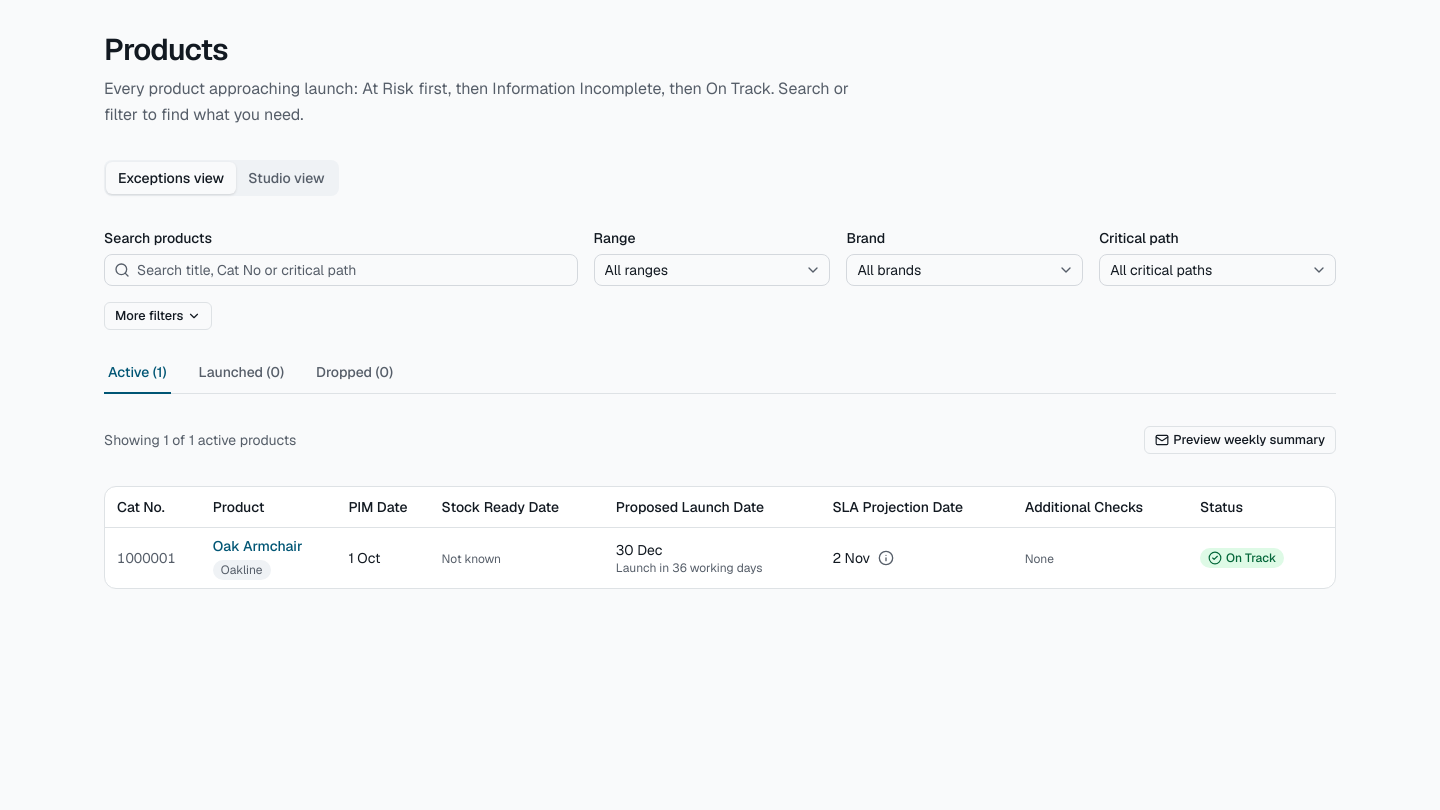
Test case: ProductsView › offers every filter, labelled
expect the dropdown labelled "range" is shown: met, box [594,254,830,286]
expect the dropdown labelled "brand" is shown: met, box [846,254,1083,286]
Click the button "More filters" at (158, 316), box [104,302,212,330]
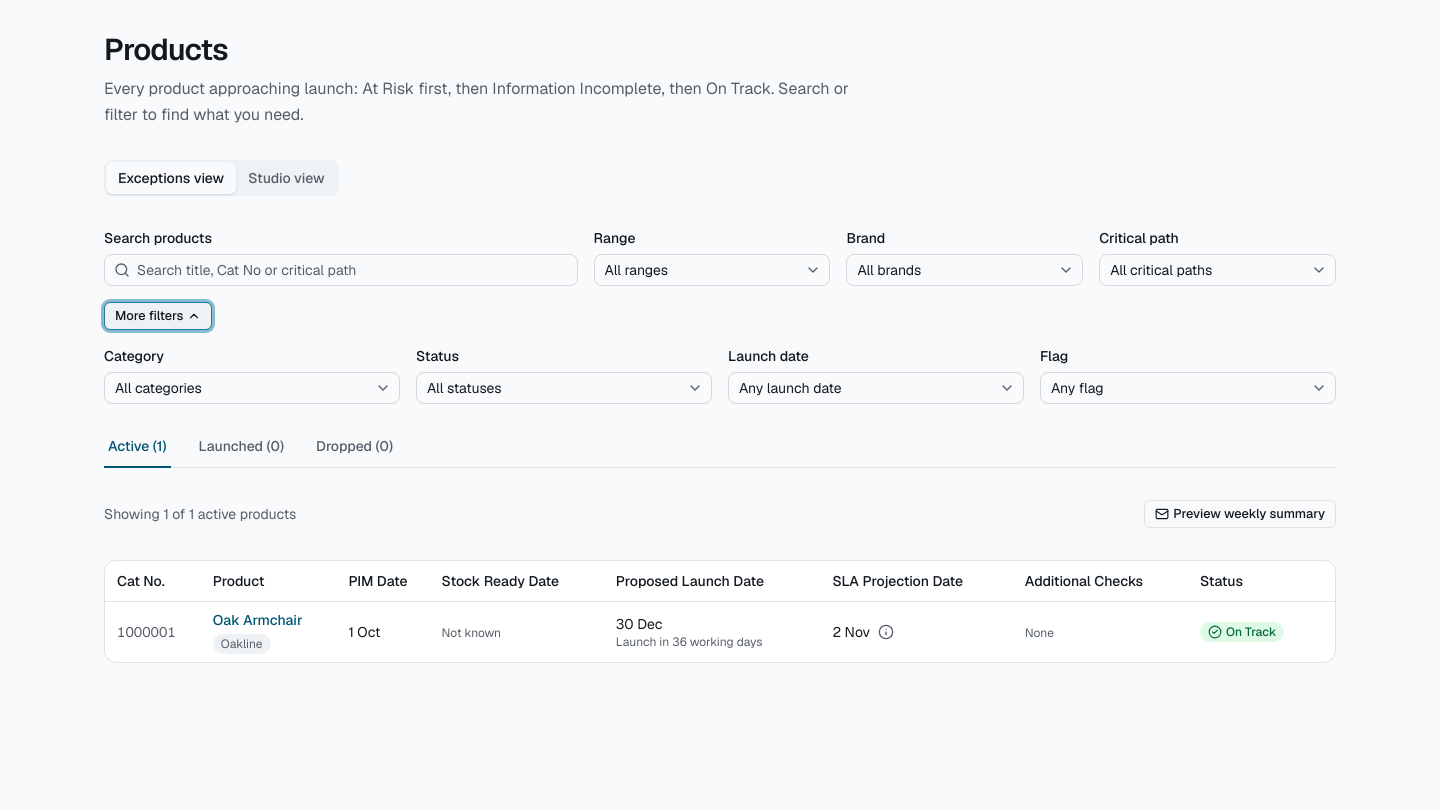
expect the button "More filters" is expanded: met, box [104,302,212,330]
expect the dropdown named "Category" is shown: met, box [104,372,400,404]
expect the dropdown labelled "status" is shown: met, box [416,372,712,404]
